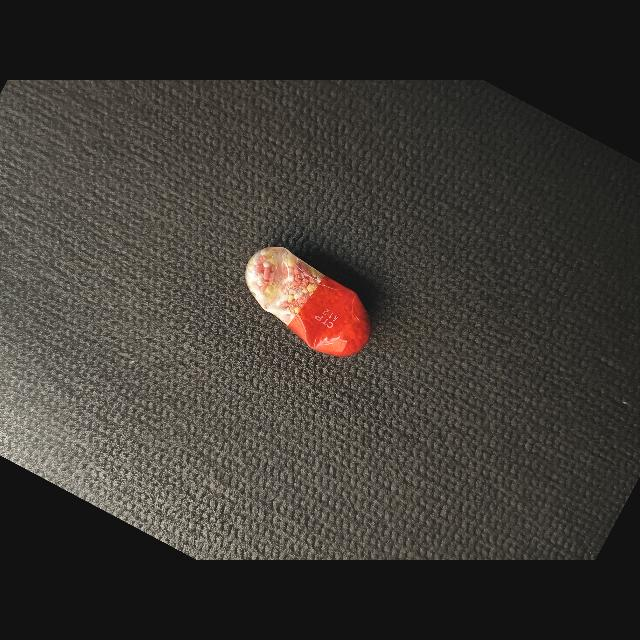Defective Capsule: (245, 247, 371, 357)
